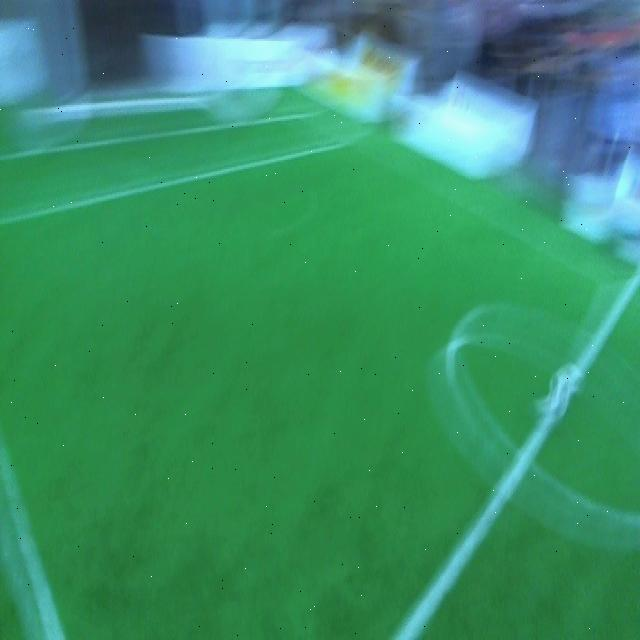ball: (538, 349, 583, 439)
